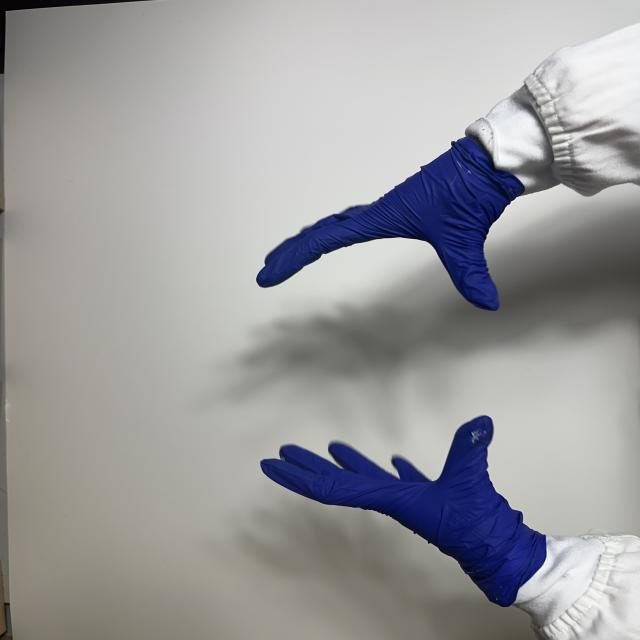gloves_contaminated: (261, 416, 546, 606), (257, 137, 524, 310)
